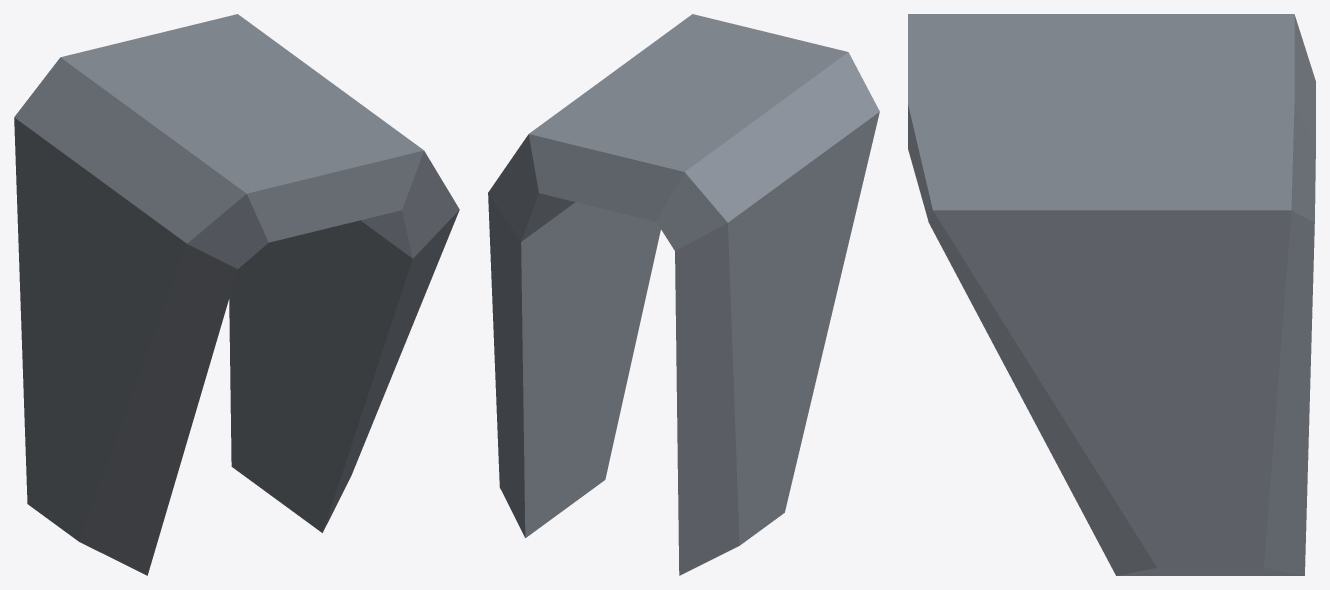
Rendered from SM_Prop_ShoppingCart_Wheel_Guard_fl_957.obj.
3 views of the same model, side by side, from view 1: azimuth 30°, elevation 25°; view 2: azimuth 150°, elevation 25°; view 3: azimuth 270°, elevation 25° (orthographic). The views are drawn at different scales.
Parts seen in each view (by area): view 1: SM_Prop_ShoppingCart_Wheel_Guard_fl_0; view 2: SM_Prop_ShoppingCart_Wheel_Guard_fl_0; view 3: SM_Prop_ShoppingCart_Wheel_Guard_fl_0.
Part boxes in pixels (x1,y1,x2,y2): SM_Prop_ShoppingCart_Wheel_Guard_fl_0: (14, 14, 459, 575); SM_Prop_ShoppingCart_Wheel_Guard_fl_0: (488, 14, 879, 575); SM_Prop_ShoppingCart_Wheel_Guard_fl_0: (908, 14, 1315, 575).
Size of the model in its own units: 0.0788 by 0.1259 by 0.0984.
Materials: 1 (1 with a texture image).
